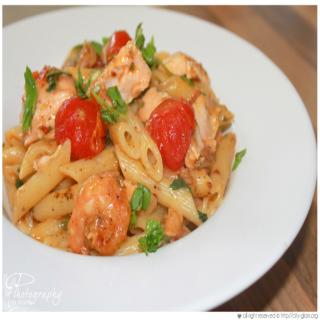Pasta: (1, 68, 237, 256)
